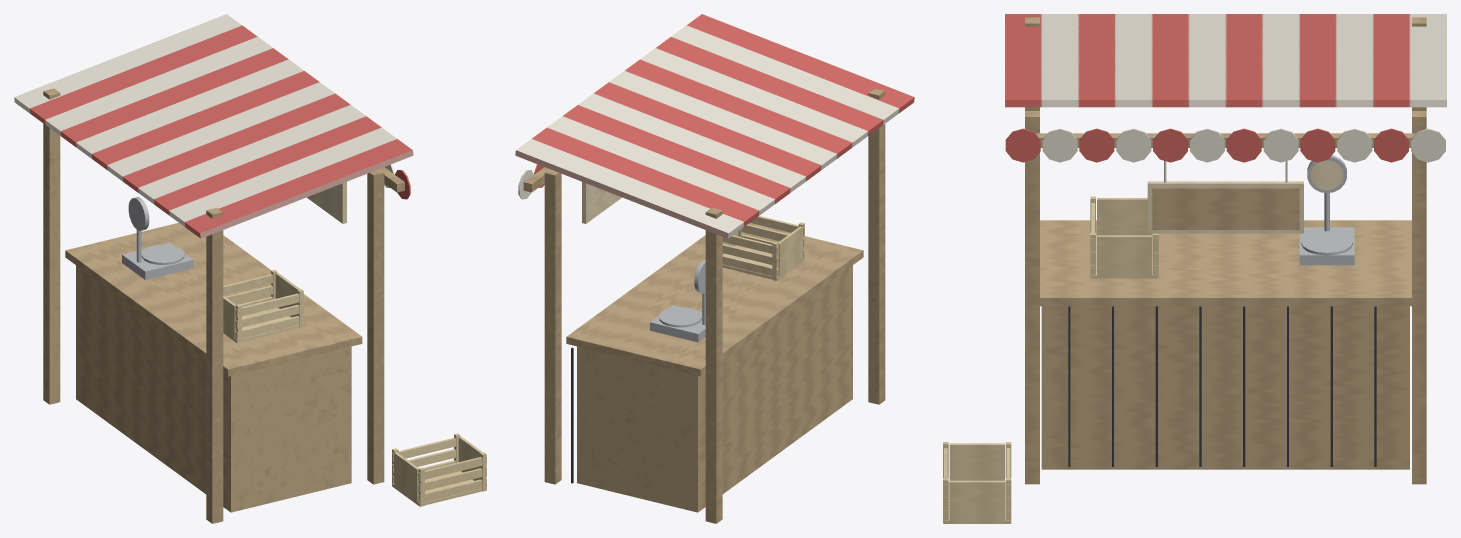
Rendered from trader_stall.fbx.
3 views of the same model, side by side, from view 1: azimuth 30°, elevation 25°; view 2: azimuth 150°, elevation 25°; view 3: azimuth 270°, elevation 25° (orthographic). The views are drawn at different scales.
Visible parts, largest first — view 1: trader_stall; view 2: trader_stall; view 3: trader_stall.
Part boxes in pixels (<box>): trader_stall: <box>14,14,486,523</box>; trader_stall: <box>515,14,914,523</box>; trader_stall: <box>943,14,1446,523</box>.
Bounding box in the file's own units: 194 × 237 × 274.
Materials: 1 (1 with a texture image).
